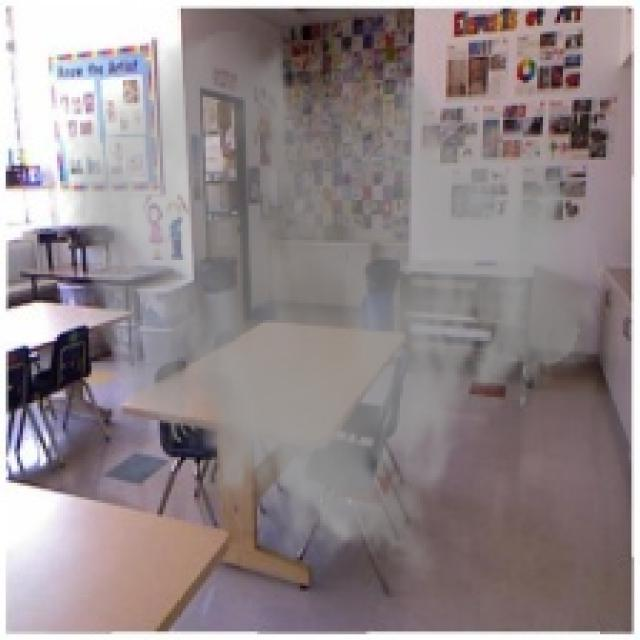smoke: (60, 26, 606, 583)
